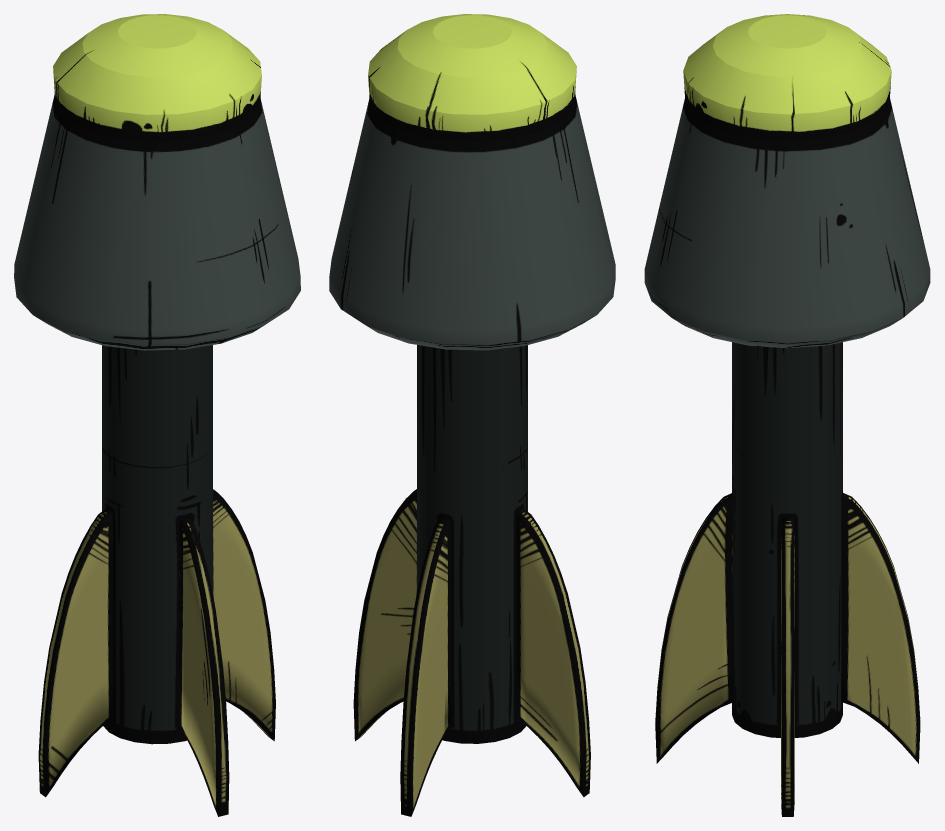
The model's file is mshAMORemote.fbx.
3 renders of one model, left to right at view 1: azimuth 30°, elevation 25°; view 2: azimuth 150°, elevation 25°; view 3: azimuth 270°, elevation 25°, orthographic.
Parts seen in each view (by area): view 1: head, body; view 2: head, body; view 3: head, body.
Boxes of the visible parts, left/top/right/bottom form: head: left=14, top=14, right=300, bottom=350; body: left=38, top=345, right=275, bottom=816; head: left=329, top=14, right=615, bottom=350; body: left=353, top=345, right=590, bottom=816; head: left=644, top=14, right=930, bottom=348; body: left=655, top=342, right=920, bottom=816.
Size of the model in its own units: 12.87 by 36.42 by 12.87.
1 material, 1 textured.
